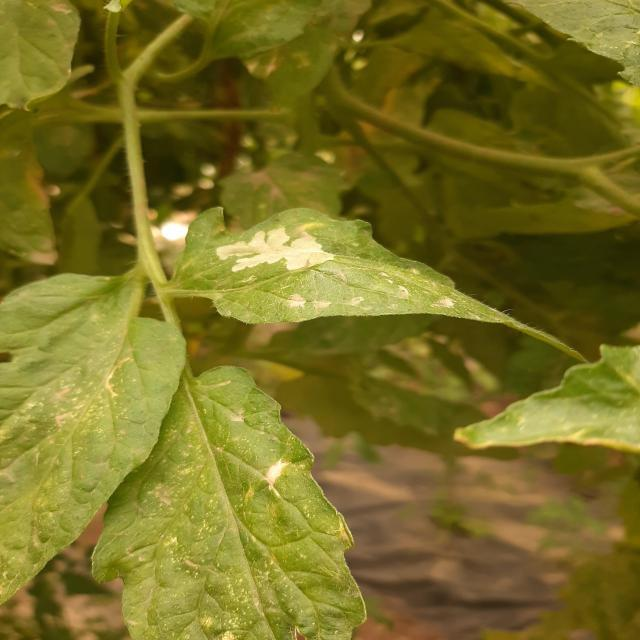Tuta absoluta: (214, 219, 335, 284), (262, 457, 292, 487)
